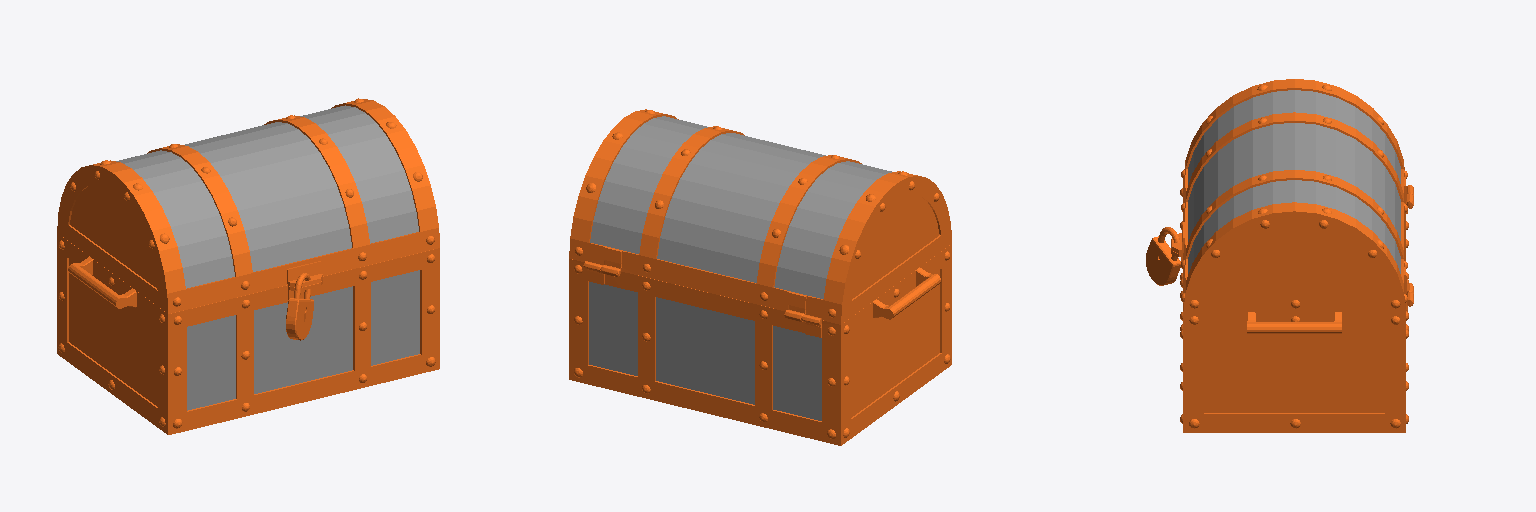
Rendered from chestTextured.obj.
The picture shows the model from 3 angles: view 1: azimuth 30°, elevation 25°; view 2: azimuth 150°, elevation 25°; view 3: azimuth 270°, elevation 25°; orthographic projection.
Visible parts, largest first — view 1: top_default, framebottom_default, frametop_default, chest_default, side_panels_default, rivets_default, lock_default; view 2: top_default, framebottom_default, frametop_default, chest_default, side_panels_default, rivets_default; view 3: side_panels_default, top_default, frametop_default, framebottom_default, rivets_default, lock_default.
Boxes of the visible parts, x1,y1,x2,y2 form: top_default: [116, 105, 418, 288]; framebottom_default: [57, 233, 439, 434]; frametop_default: [57, 99, 439, 313]; chest_default: [187, 270, 419, 410]; side_panels_default: [69, 184, 157, 406]; rivets_default: [58, 98, 435, 428]; lock_default: [286, 273, 313, 340]; top_default: [590, 116, 891, 298]; framebottom_default: [569, 244, 951, 445]; frametop_default: [569, 109, 951, 324]; chest_default: [589, 282, 821, 420]; side_panels_default: [851, 195, 939, 417]; rivets_default: [574, 110, 950, 438]; side_panels_default: [1204, 229, 1384, 412]; top_default: [1188, 90, 1400, 273]; frametop_default: [1171, 79, 1413, 311]; framebottom_default: [1171, 185, 1413, 432]; rivets_default: [1180, 85, 1408, 428]; lock_default: [1146, 227, 1180, 285].
Size of the model in its own units: 3.32 by 2.25 by 2.47.